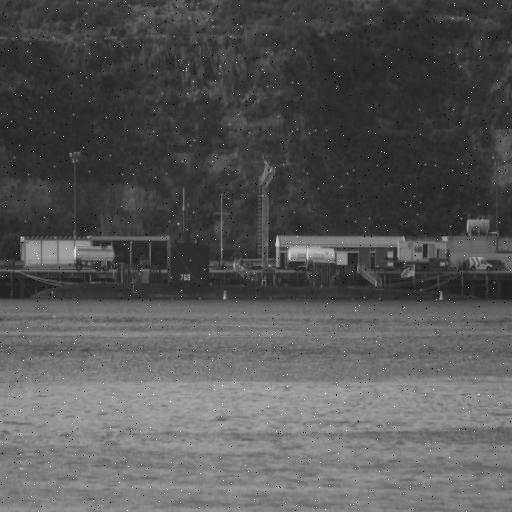submarine: (30, 185, 475, 300)
